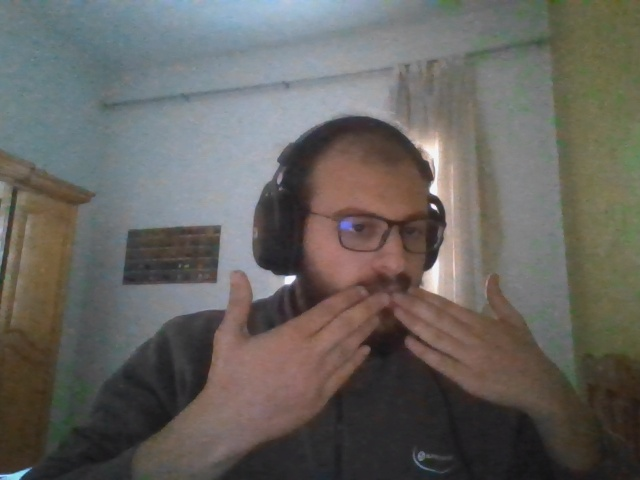Thank You: (223, 268, 533, 421)
